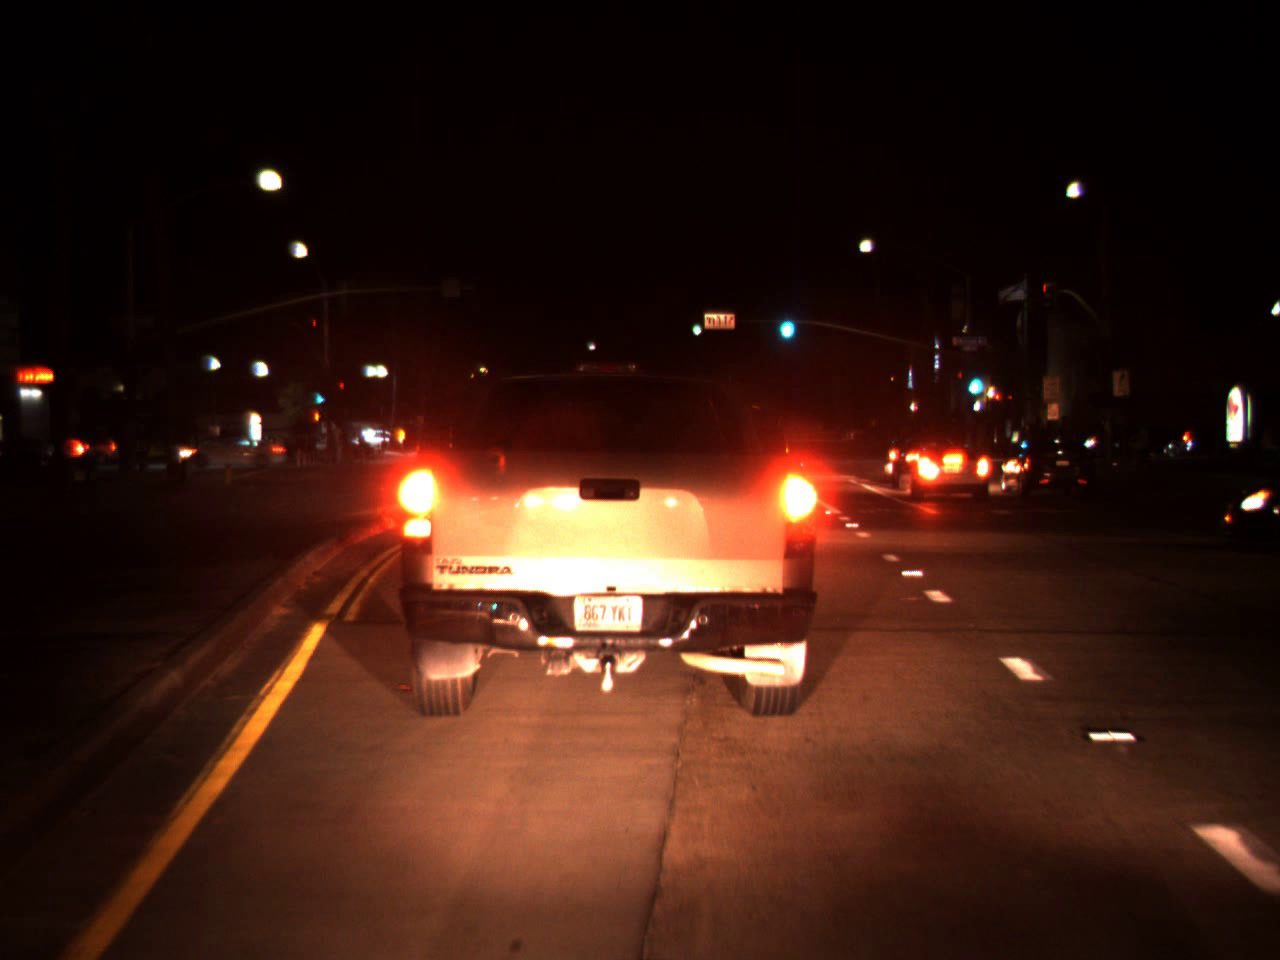go: (773, 298, 798, 346), (964, 356, 985, 401), (688, 313, 702, 337), (314, 387, 324, 405)
